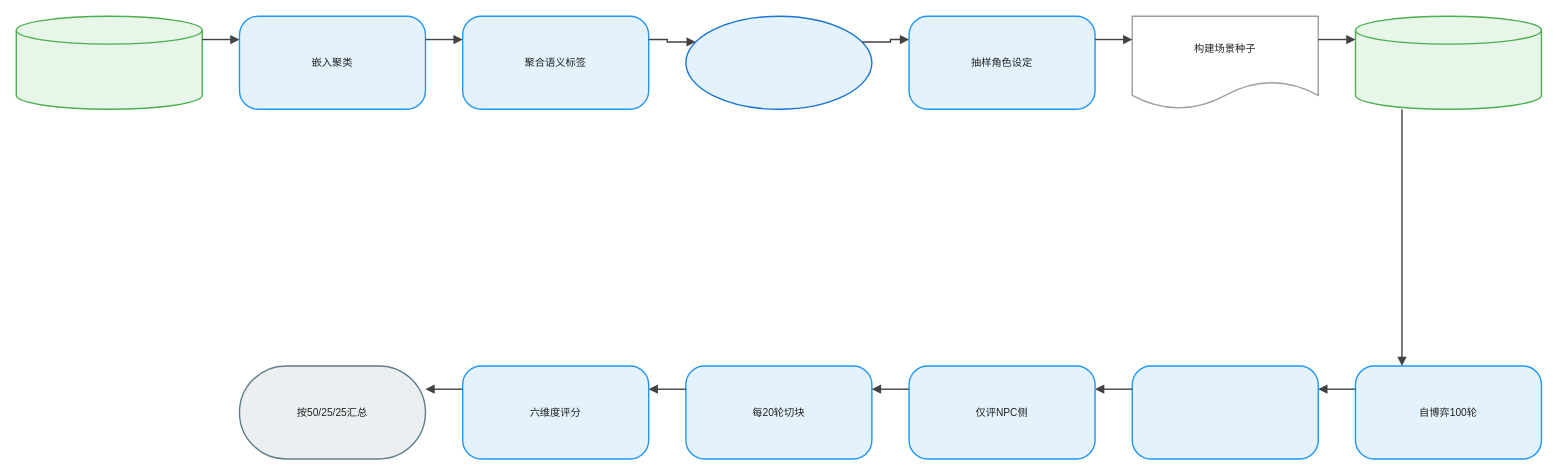
Image size: 1559x476. Some labels were removed from this diagram. The centre of each missing label's shape, as x and y in pixels:
人工核验: (x=778, y=62)
内部提示库: (x=109, y=62)
发布部分子集: (x=1448, y=62)
重复三次: (x=1225, y=412)
